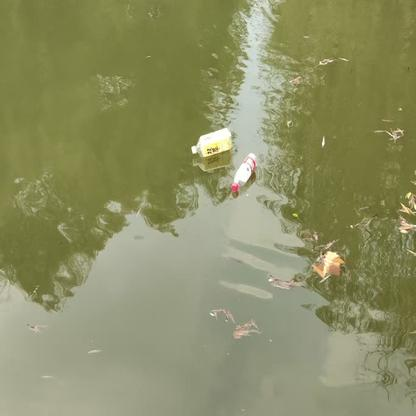plastic bottle: (192, 129, 233, 156), (231, 152, 259, 190)
